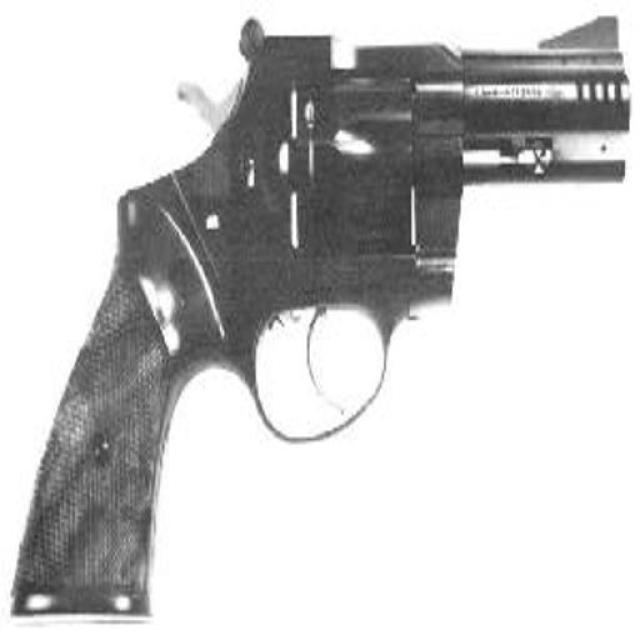pistol: (6, 12, 625, 620)
